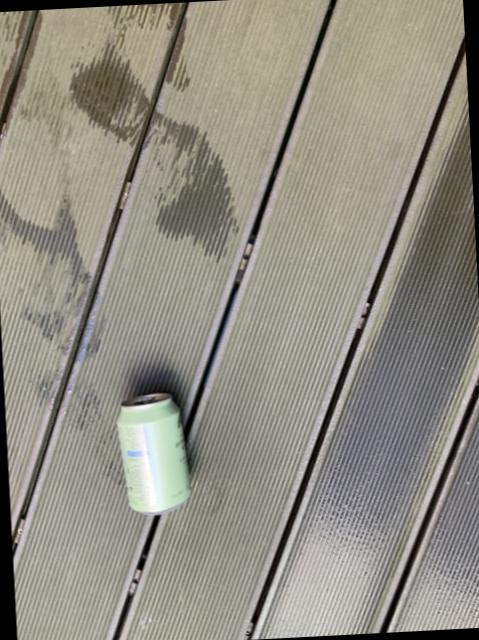metal: (116, 394, 188, 514)
